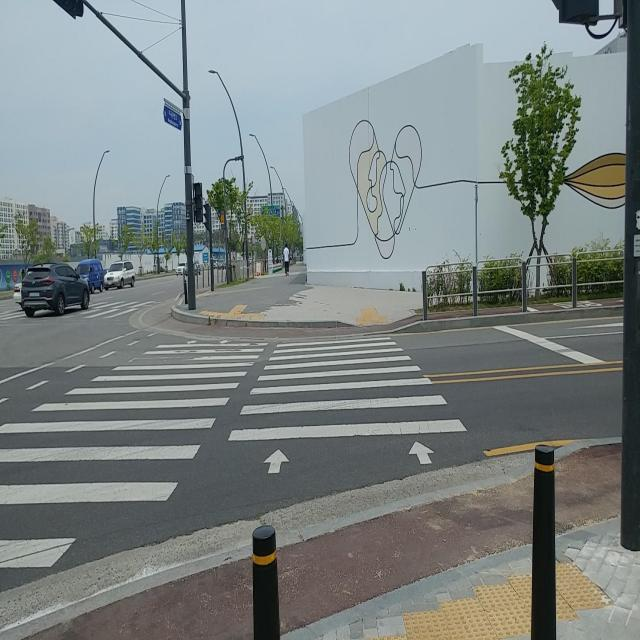횡단보도: (0, 336, 467, 571), (83, 300, 156, 321)
